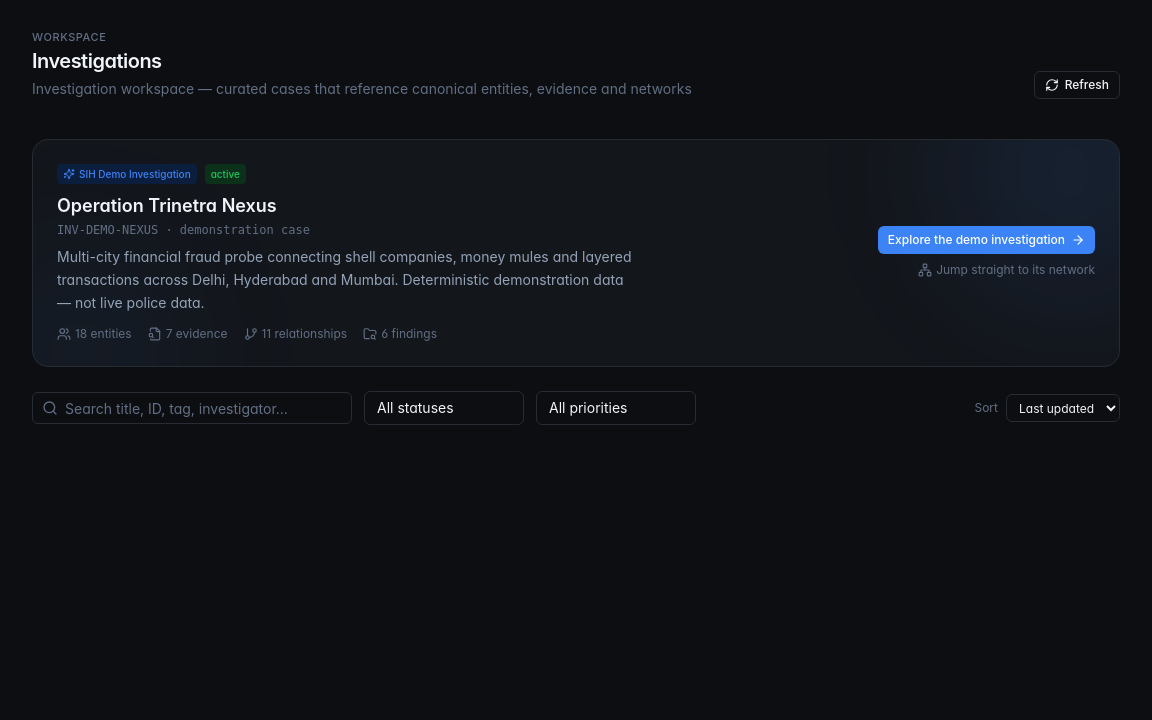
Test case: InvestigationsPage › filters rows by search query
Type "zzz-nothing" into the field with test id "investigations-search" at x=192, y=408, box top-left (32, 392), bottom-right (352, 424)
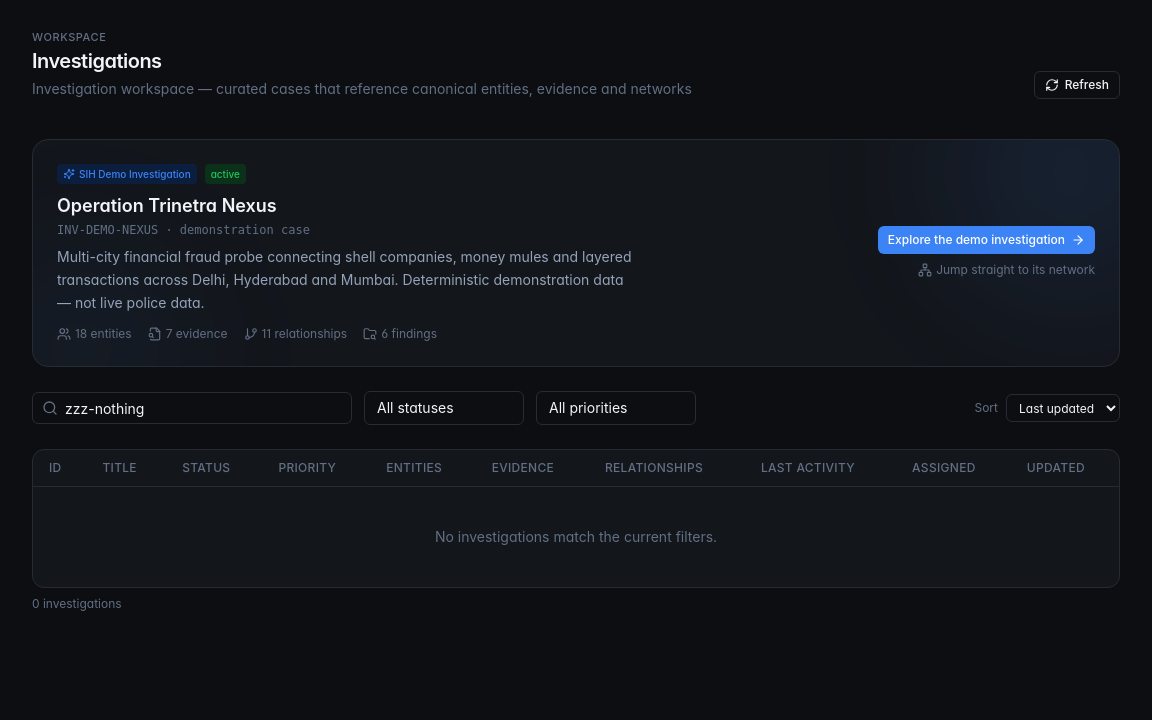
Result: the text "No investigations match the current filters." is shown at top-left (33, 487), bottom-right (1119, 587)
